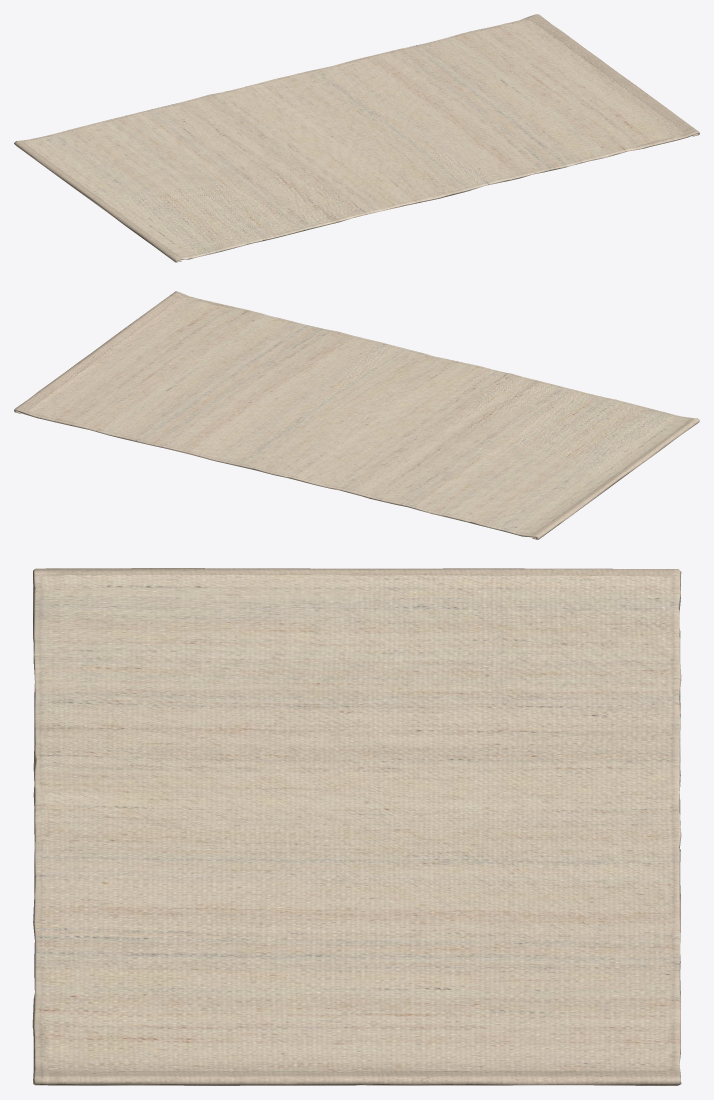
Rendered from tidtabell_rug_flatwoven_beige.glb.
The picture shows the model from 3 angles, top to bottom: view 1: azimuth 30°, elevation 25°; view 2: azimuth 150°, elevation 25°; view 3: azimuth 270°, elevation 25°; orthographic projection. The views are drawn at different scales.
Parts seen in each view (by area): view 1: ASY_ART_10561868_S01_NV01; view 2: ASY_ART_10561868_S01_NV01; view 3: ASY_ART_10561868_S01_NV01.
Part boxes in pixels (x1,y1,x2,y2): ASY_ART_10561868_S01_NV01: (14,14,699,262); ASY_ART_10561868_S01_NV01: (14,291,699,539); ASY_ART_10561868_S01_NV01: (32,568,681,1085).
Bounding box in the file's own units: 1.5 × 0.0118 × 0.8029.
1 material, 1 textured.
